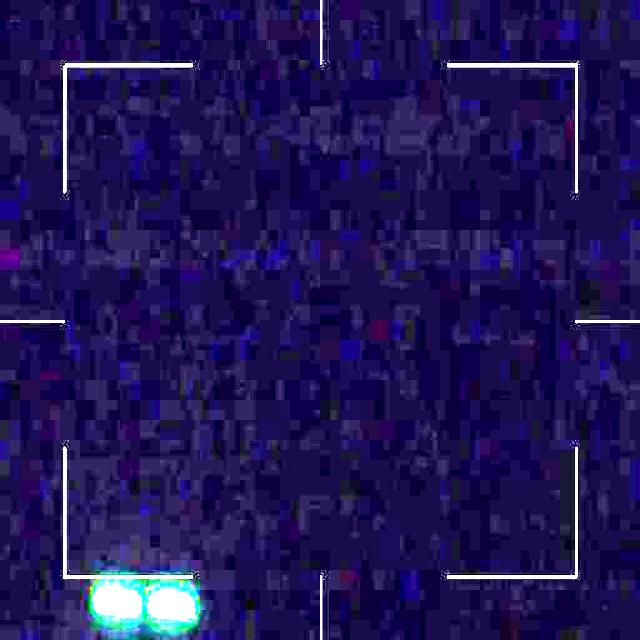bird: (90, 585, 199, 629)
